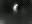person: (13, 4, 20, 15)
